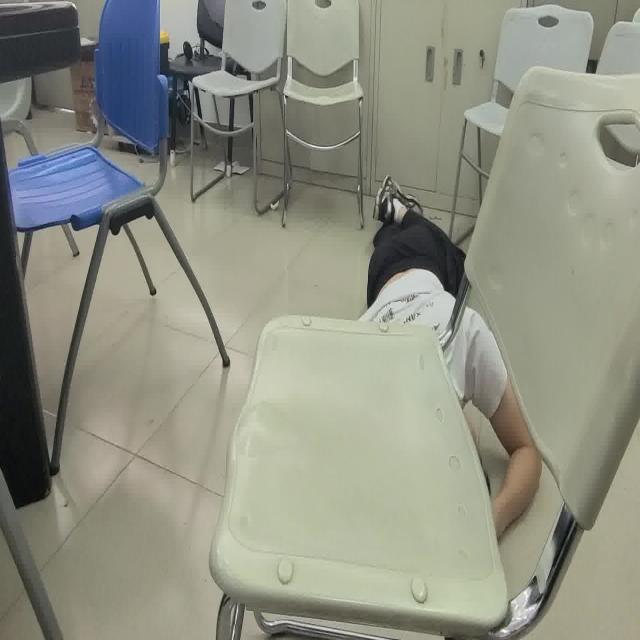Fall-Detected: (364, 175, 548, 541)
